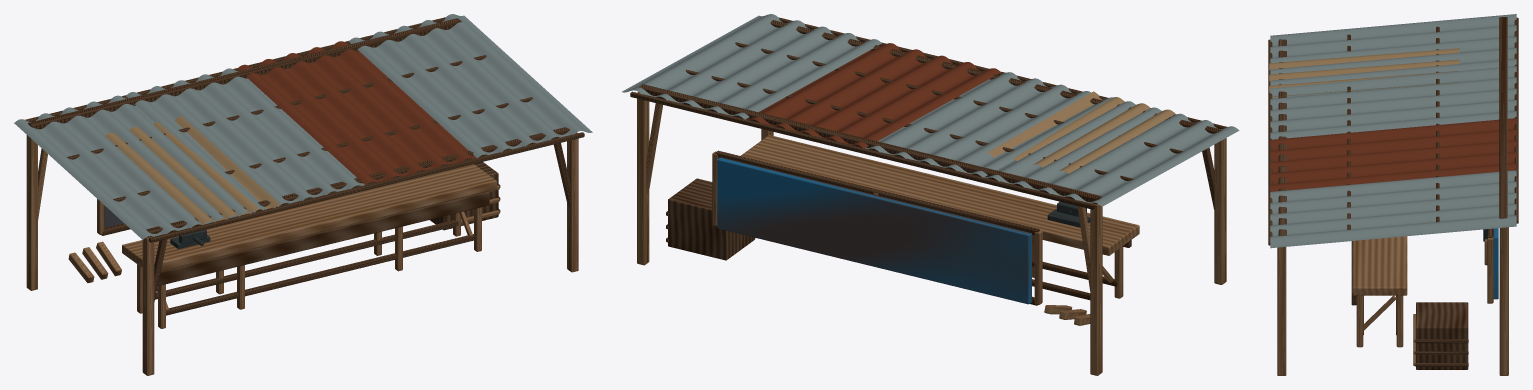
The model's file is scavenger_workarea.glb.
3 renders of one model, left to right at view 1: azimuth 30°, elevation 25°; view 2: azimuth 150°, elevation 25°; view 3: azimuth 270°, elevation 25°, orthographic. The views are drawn at different scales.
Parts seen in each view (by area): view 1: Outer work bay timber post; view 2: Outer work bay timber post; view 3: Outer work bay timber post.
Part boxes in pixels (box(x1,y1,x2,y2)): Outer work bay timber post: box(14, 14, 592, 375); Outer work bay timber post: box(622, 14, 1239, 375); Outer work bay timber post: box(1268, 14, 1518, 375).
Bounding box in the file's own units: 22.81 × 8.04 × 11.48.
7 materials, 7 textured.
